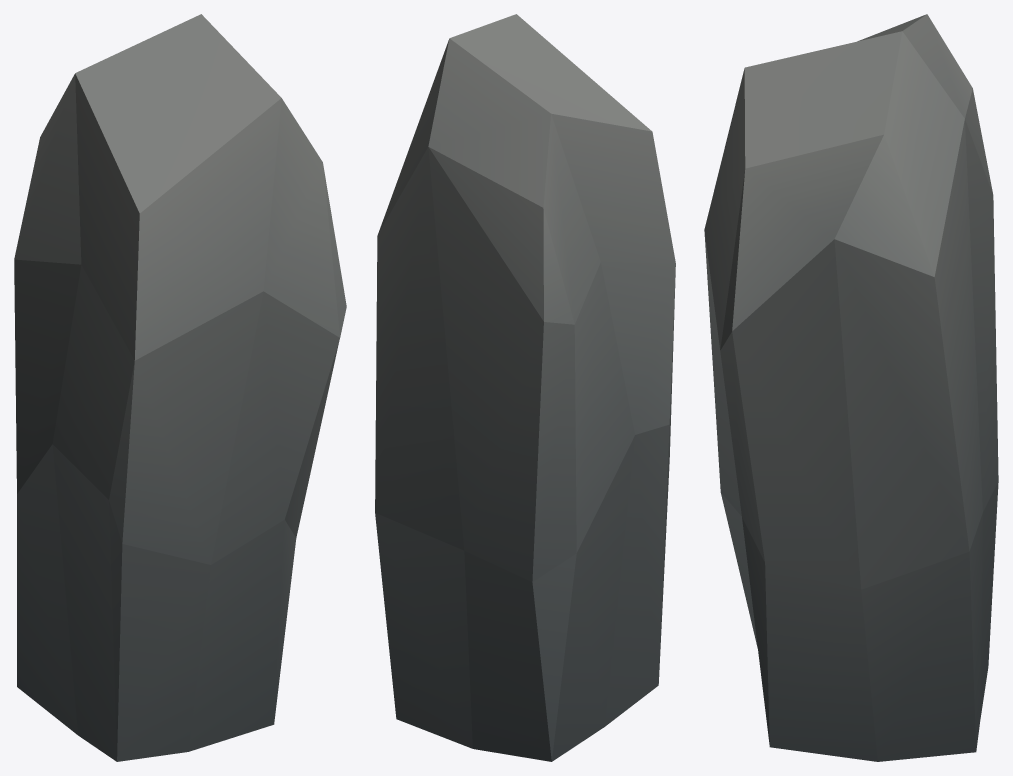
File: Rock_Medium_A.fbx
3 views of the same model, side by side, from view 1: azimuth 30°, elevation 25°; view 2: azimuth 150°, elevation 25°; view 3: azimuth 270°, elevation 25° (orthographic). The views are drawn at different scales.
Visible parts, largest first — view 1: Rock_Medium_A; view 2: Rock_Medium_A; view 3: Rock_Medium_A.
Part boxes in pixels (x1,y1,x2,y2): Rock_Medium_A: [14, 14, 346, 761]; Rock_Medium_A: [375, 14, 675, 761]; Rock_Medium_A: [704, 14, 998, 761].
Bounding box in the file's own units: 94.38 × 255 × 93.14.
